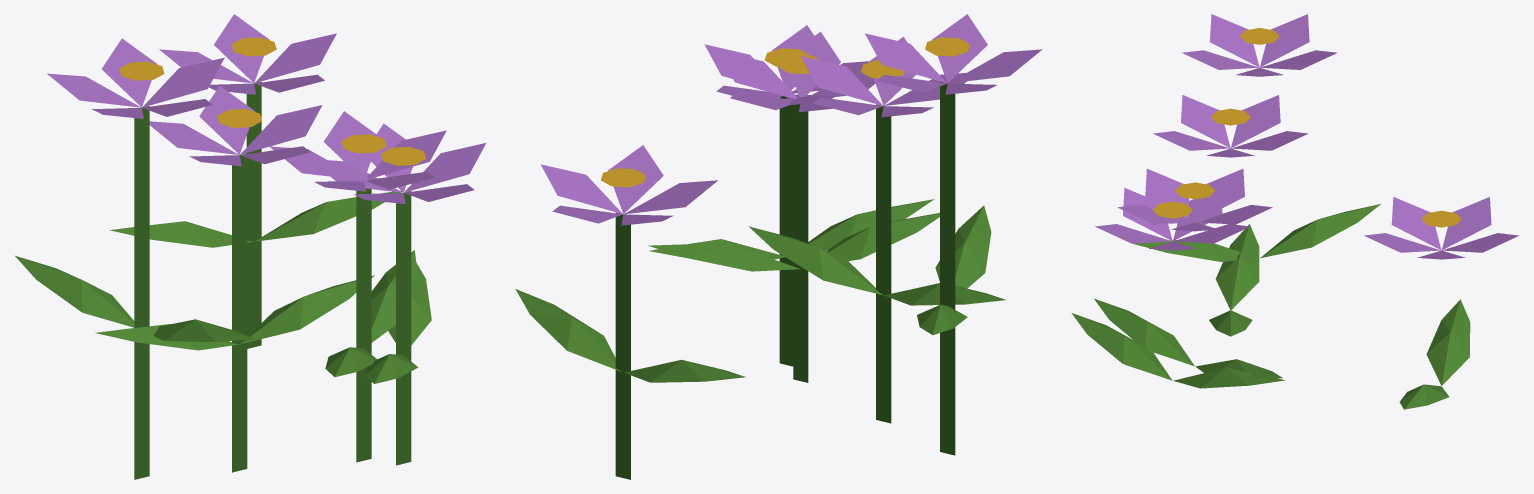
The model's file is flowers-2.glb.
The picture shows the model from 3 angles, left to right: view 1: azimuth 30°, elevation 25°; view 2: azimuth 150°, elevation 25°; view 3: azimuth 270°, elevation 25°; orthographic projection. The views are drawn at different scales.
Parts seen in each view (by area): view 1: flowers-2 export; view 2: flowers-2 export; view 3: flowers-2 export.
Part boxes in pixels (box(x1,y1,x2,y2)): flowers-2 export: box(15, 14, 485, 479); flowers-2 export: box(515, 14, 1042, 479); flowers-2 export: box(1071, 14, 1518, 409).
Bounding box in the file's own units: 0.6537 × 0.6119 × 0.7125.
